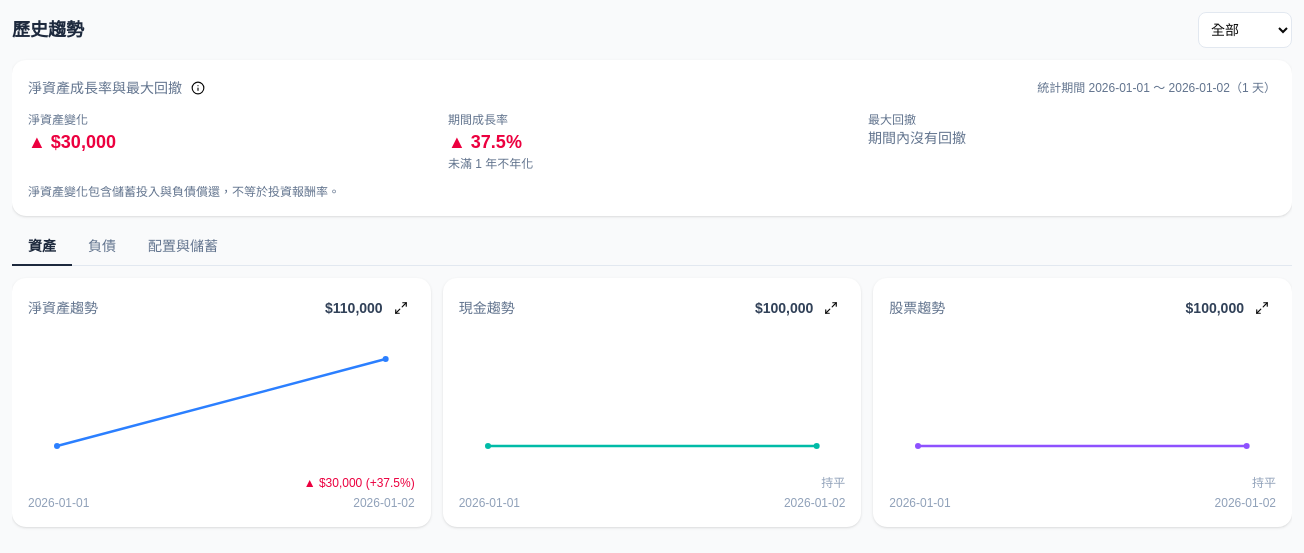
Test case: TrendSection › 儲蓄率／每月應還款／資產配置趨勢 › 沒有收入的快照儲蓄率為 0%，不出現 NaN
Press the mouse on the tab "配置與儲蓄" at (183, 247), box [132,228,234,266]
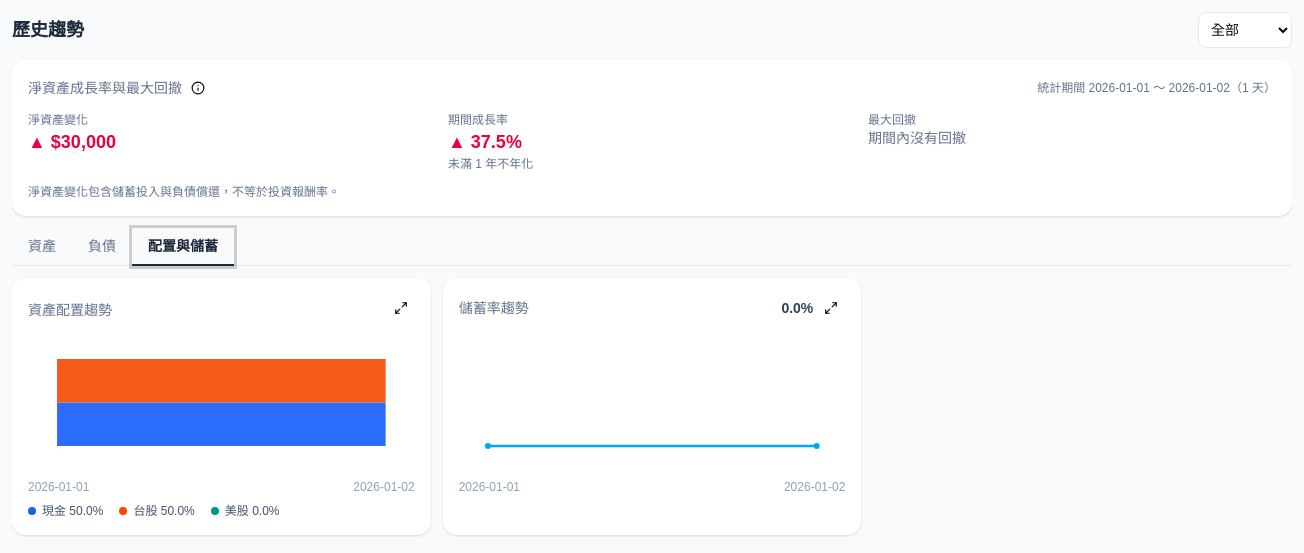
expect the text "0.0%" is shown: met, box [781,298,813,318]
